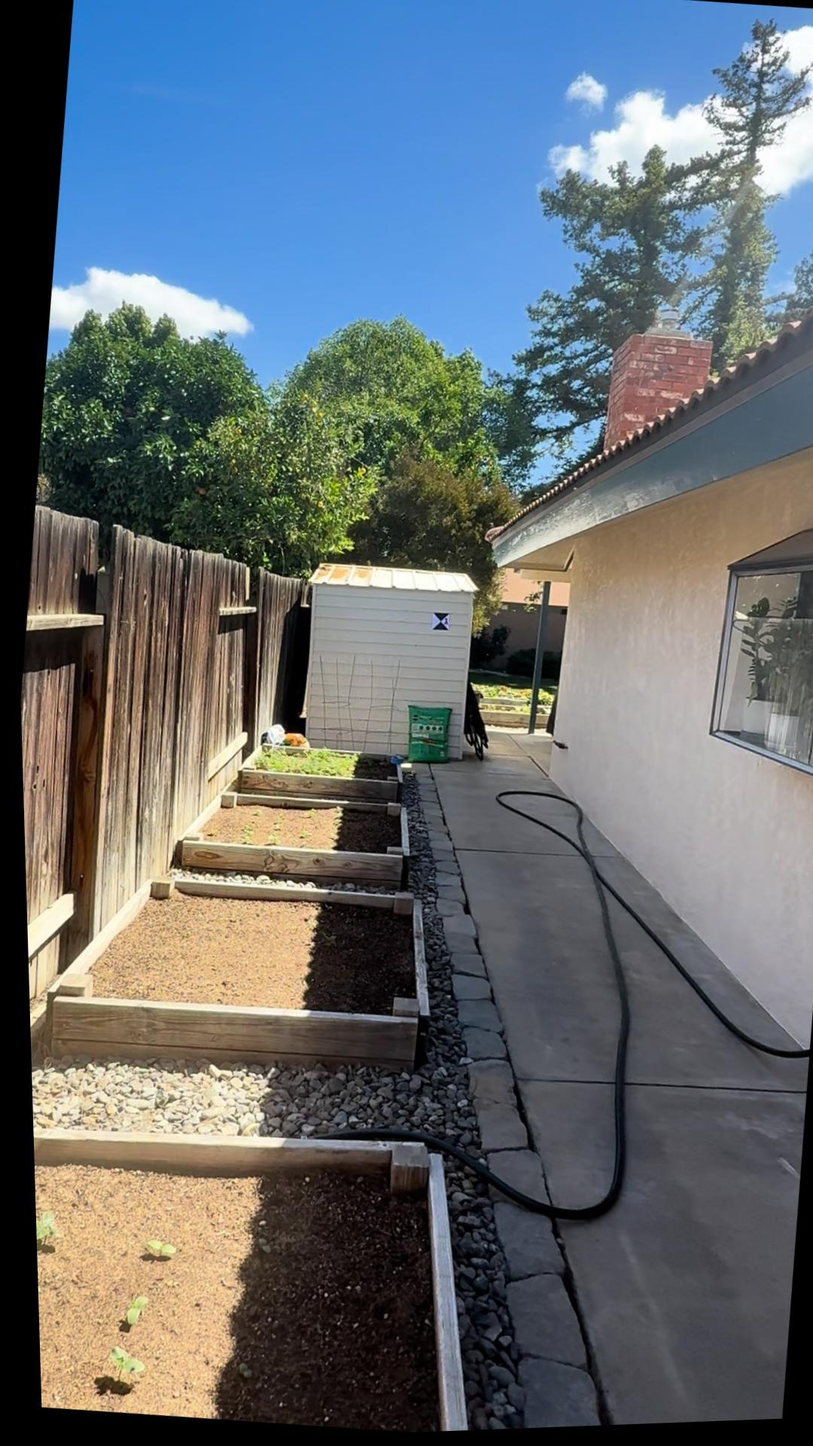target1: (429, 610, 454, 632)
